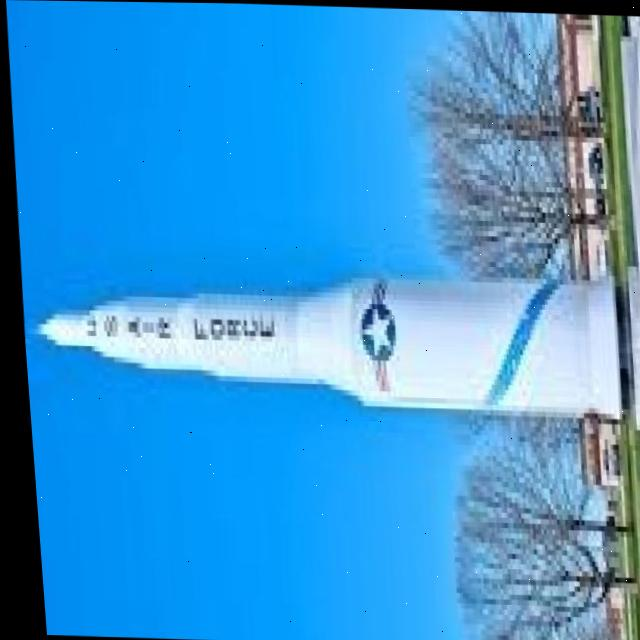missile: (21, 250, 629, 418)
